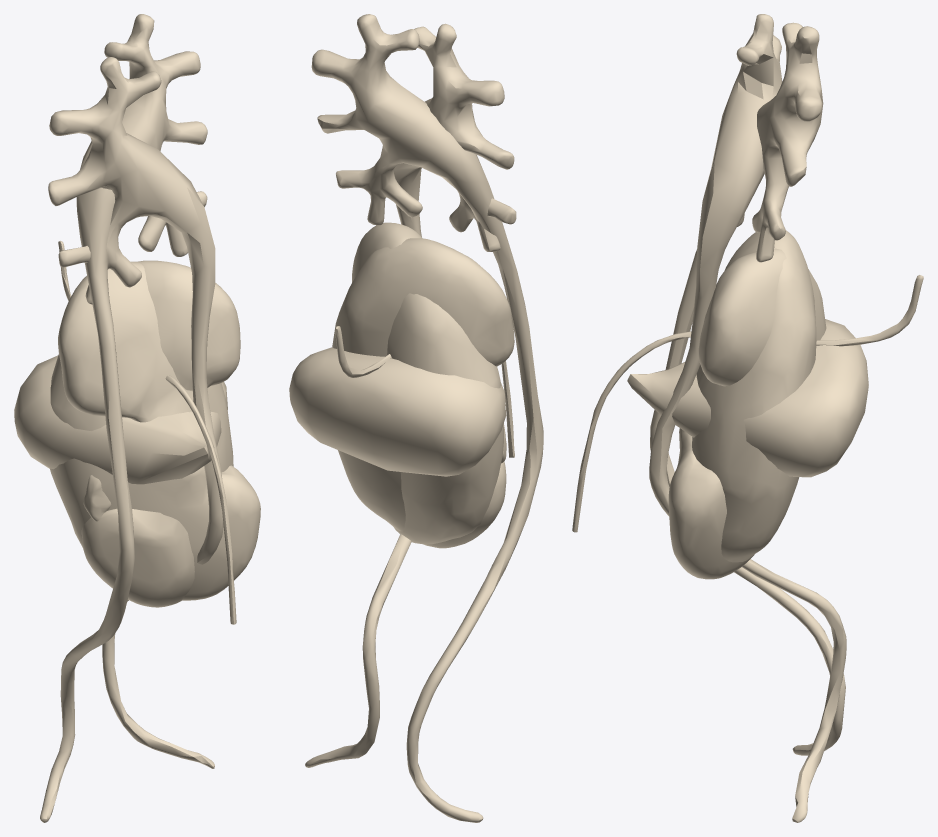
The model's file is urogenital.glb.
3 renders of one model, left to right at view 1: azimuth 30°, elevation 25°; view 2: azimuth 150°, elevation 25°; view 3: azimuth 270°, elevation 25°, orthographic.
Visible parts, largest first — view 1: right_ureter, left_kidney, right_kidney, left_ureter, urinary_bladder, urethra, left_adrenal_gland; view 2: left_ureter, urinary_bladder, left_kidney, right_kidney, right_ureter, urethra; view 3: right_ureter, left_kidney, right_kidney, urinary_bladder, left_ureter, urethra.
Boxes of the visible parts, x1,y1,x2,y2 form: right_ureter: (48, 57, 223, 768); left_kidney: (58, 261, 233, 607); right_kidney: (49, 260, 260, 600); left_ureter: (40, 14, 207, 822); urinary_bladder: (14, 355, 227, 484); urethra: (58, 241, 236, 624); left_adrenal_gland: (83, 475, 111, 521); left_ureter: (311, 14, 543, 822); urinary_bladder: (289, 347, 505, 476); left_kidney: (332, 238, 514, 548); right_kidney: (352, 222, 503, 544); right_ureter: (305, 23, 516, 767); urethra: (335, 326, 514, 457); right_ureter: (649, 14, 846, 822); left_kidney: (692, 230, 816, 562); right_kidney: (668, 248, 826, 579); urinary_bladder: (627, 319, 868, 477); left_ureter: (650, 22, 845, 755); urethra: (572, 275, 923, 532).
Bounding box in the file's own units: 2354416 × 8975380 × 3675097.
